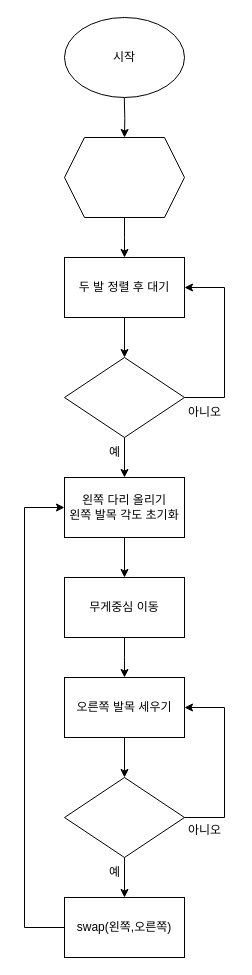
Image size: 252x975. Some labels were removed from this diagram. The centre of each missing label's shape, as x and y in pixels:
"걷기" 명령이 주어진 상태인가?: the point at 124,397
왼쪽 발이 땅에 닿았는가?: the point at 124,817
전원 켜기 로봇 세우기: the point at 124,177
